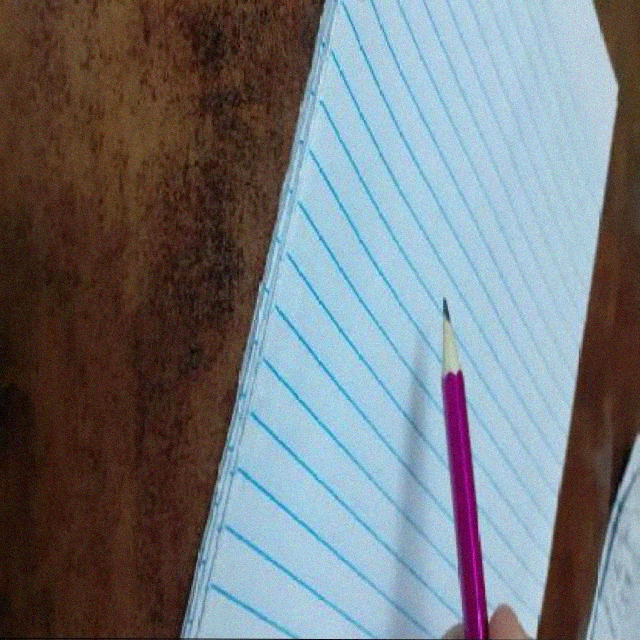pencil: (434, 295, 468, 374)
